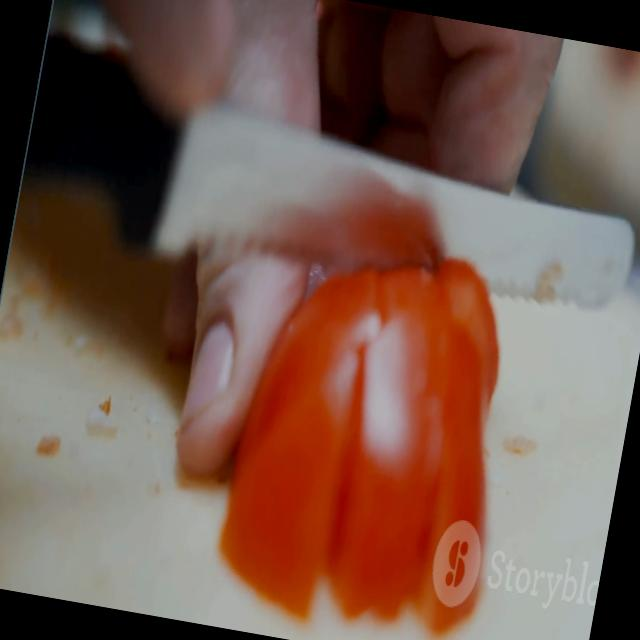knife: (155, 106, 635, 312)
